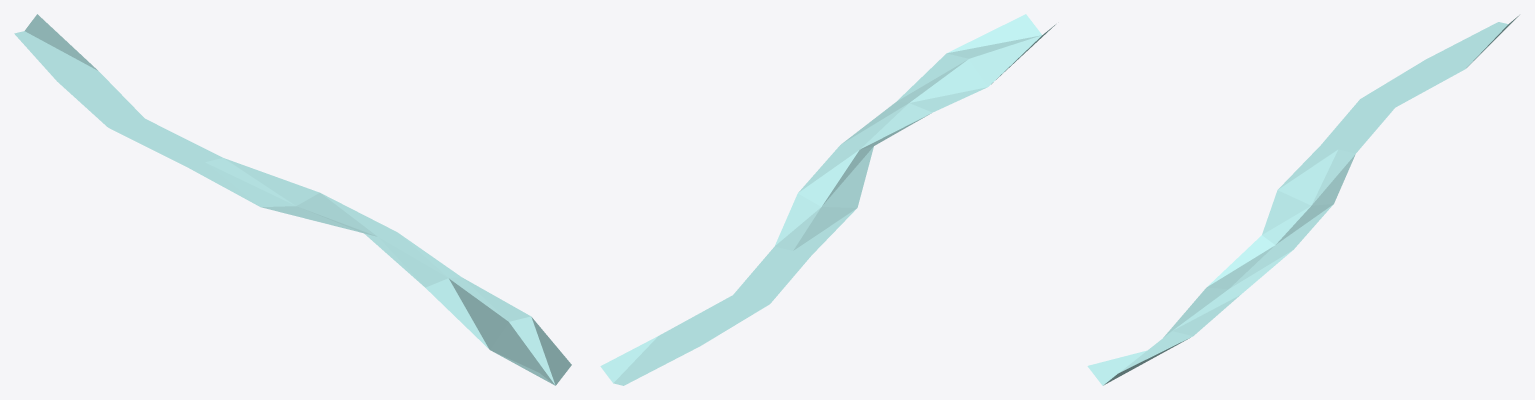
File: current01.fbx
3 views of the same model, side by side, from view 1: azimuth 30°, elevation 25°; view 2: azimuth 150°, elevation 25°; view 3: azimuth 330°, elevation 25° (orthographic). The views are drawn at different scales.
Parts seen in each view (by area): view 1: obj0.192; view 2: obj0.192; view 3: obj0.192.
Boxes of the visible parts, bbox=[...] form: obj0.192: bbox=[14, 14, 571, 385]; obj0.192: bbox=[600, 14, 1055, 385]; obj0.192: bbox=[1087, 15, 1519, 385].
Bounding box in the file's own units: 2.89 × 0.8275 × 19.31.
